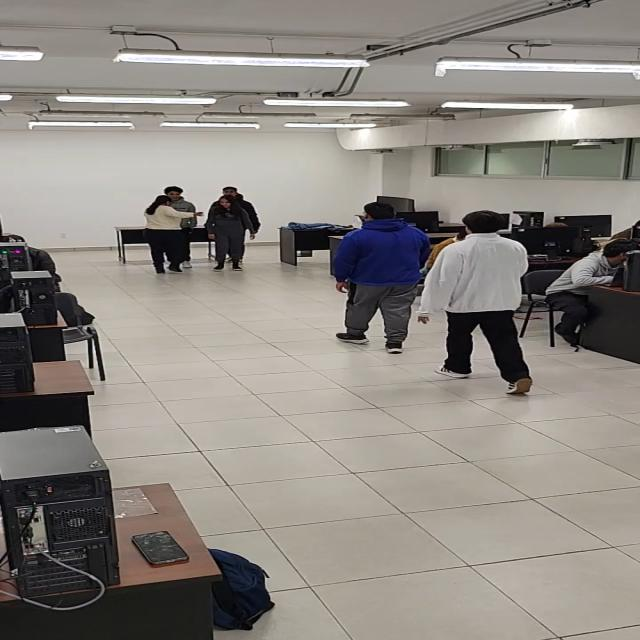Persona: (415, 210, 534, 395), (330, 202, 433, 355), (143, 195, 206, 273), (204, 186, 262, 264), (204, 194, 256, 272), (153, 186, 197, 268)
